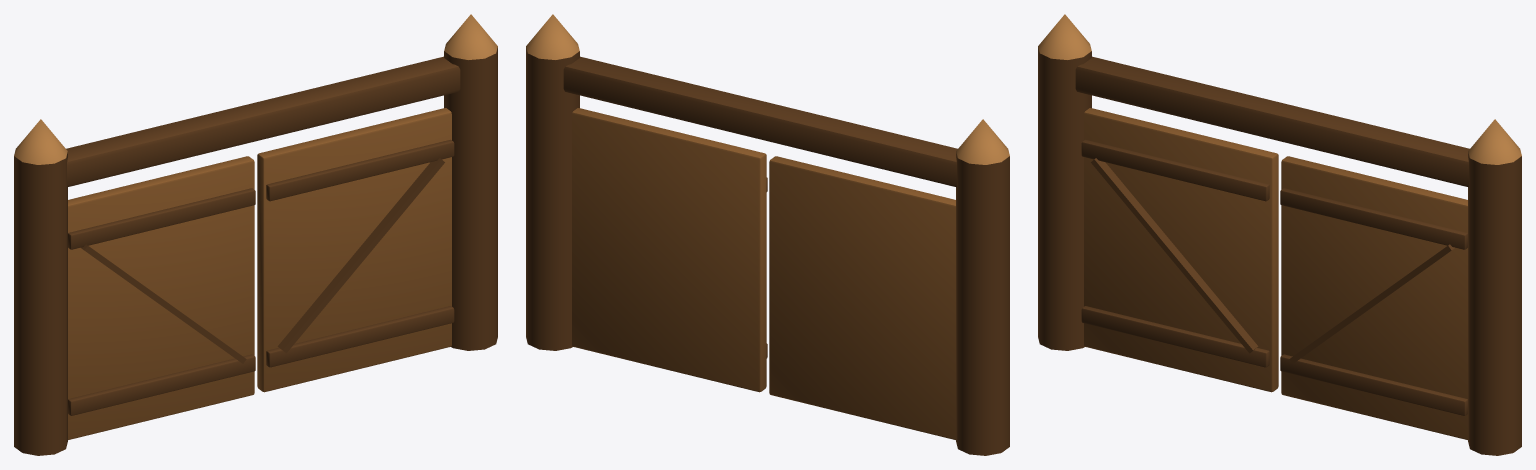
Rendered from brama_1.glb.
3 views of the same model, side by side, from view 1: azimuth 30°, elevation 25°; view 2: azimuth 150°, elevation 25°; view 3: azimuth 330°, elevation 25° (orthographic).
Parts seen in each view (by area): view 1: brama_1; view 2: brama_1; view 3: brama_1.
Boxes of the visible parts, <box> form: brama_1: <box>14,14,497,455</box>; brama_1: <box>526,14,1009,455</box>; brama_1: <box>1038,14,1521,455</box>.
Size of the model in its own units: 7.18 by 4.7 by 0.72.
